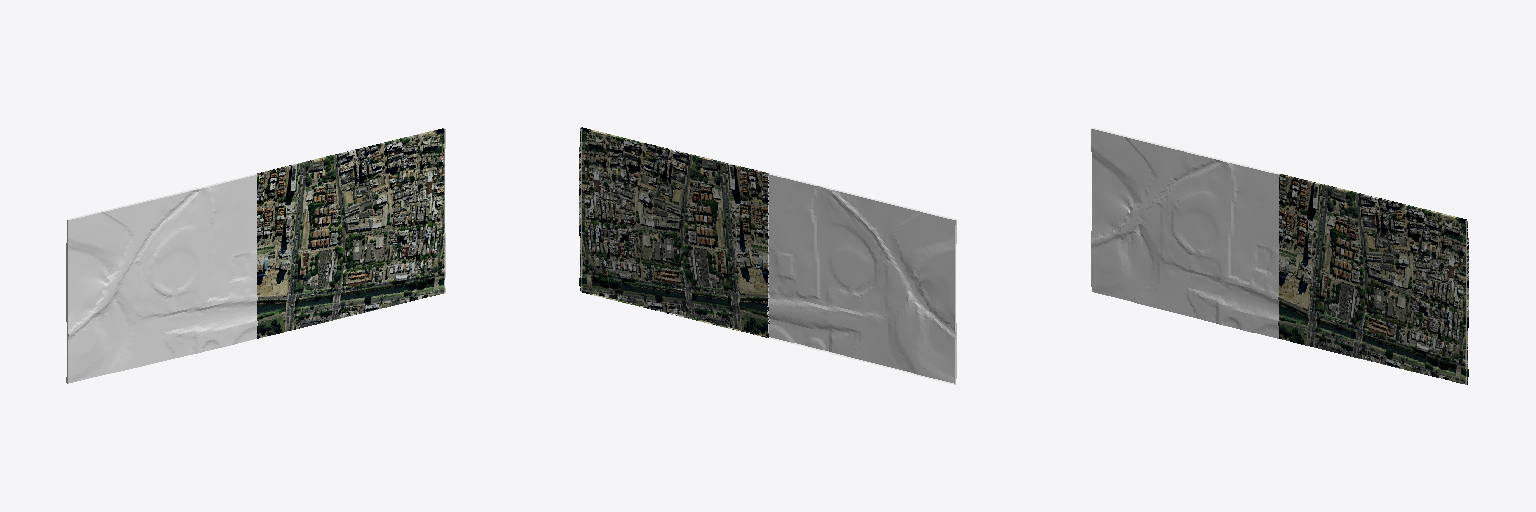
The picture shows the model from 3 angles: view 1: azimuth 30°, elevation 25°; view 2: azimuth 150°, elevation 25°; view 3: azimuth 330°, elevation 25°; orthographic projection.
Visible parts, largest first — view 1: novo3_L0_X0_Y0_subtile.osg_TerrainTile_MatrixTransform__Geometry; view 2: novo3_L0_X0_Y0_subtile.osg_TerrainTile_MatrixTransform__Geometry; view 3: novo3_L0_X0_Y0_subtile.osg_TerrainTile_MatrixTransform__Geometry.
Boxes of the visible parts, x1,y1,x2,y2 form: novo3_L0_X0_Y0_subtile.osg_TerrainTile_MatrixTransform__Geometry: [66, 128, 445, 383]; novo3_L0_X0_Y0_subtile.osg_TerrainTile_MatrixTransform__Geometry: [579, 127, 956, 384]; novo3_L0_X0_Y0_subtile.osg_TerrainTile_MatrixTransform__Geometry: [1091, 128, 1468, 384].
Bounding box in the file's own units: 1341 × 558 × 19.47.
Materials: 2 (1 with a texture image).